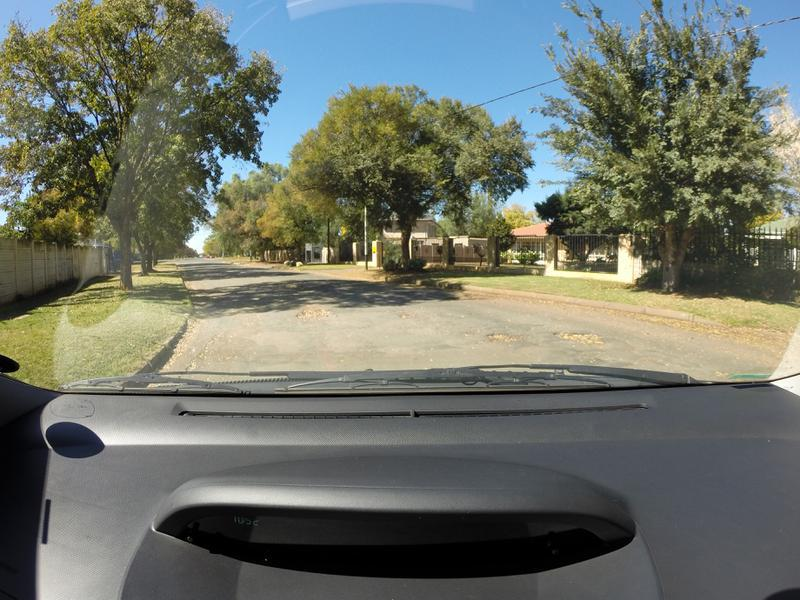pothole: (289, 302, 348, 324), (552, 329, 619, 342), (488, 330, 530, 345)
